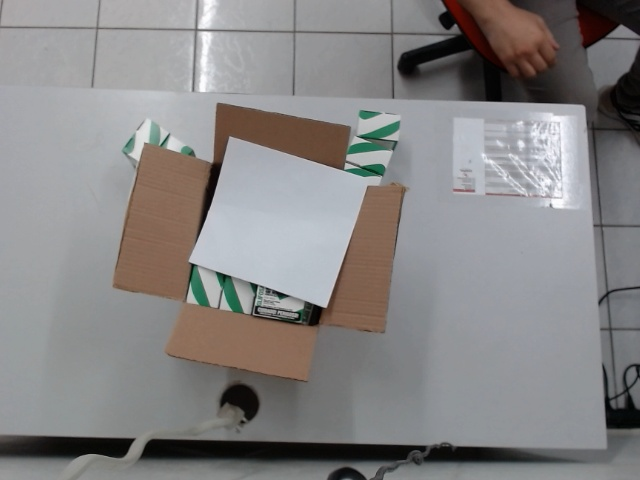divisor: (188, 133, 374, 310)
item: (121, 118, 173, 166), (219, 264, 260, 315), (178, 264, 225, 308), (352, 107, 404, 146), (255, 288, 305, 324), (342, 135, 394, 168), (337, 161, 384, 192)
